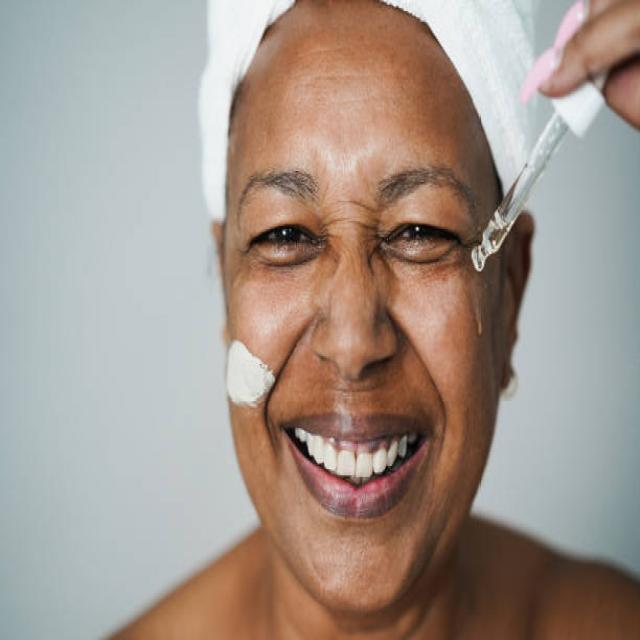Dry-Skin: (238, 39, 470, 166)
